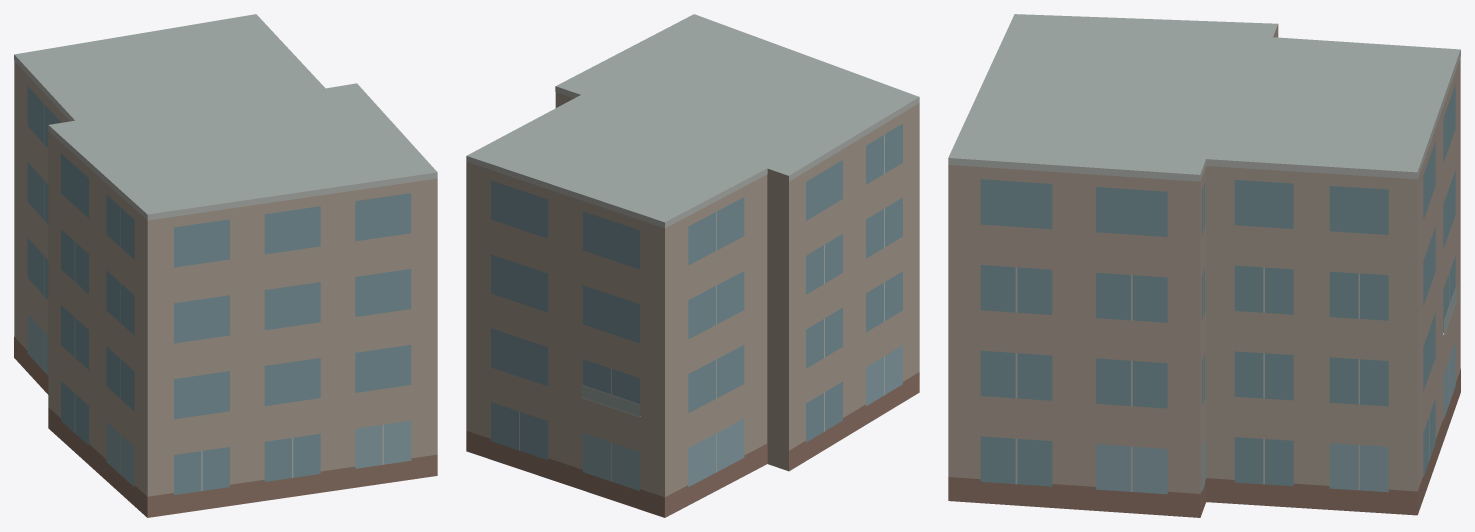
Rendered from survey-upis-32932903.glb.
3 renders of one model, left to right at view 1: azimuth 30°, elevation 25°; view 2: azimuth 150°, elevation 25°; view 3: azimuth 270°, elevation 25°, orthographic. The views are drawn at different scales.
Parts seen in each view (by area): view 1: survey-upis-32932903.tmp; view 2: survey-upis-32932903.tmp; view 3: survey-upis-32932903.tmp.
Part boxes in pixels (box(x1,y1,x2,y2)): survey-upis-32932903.tmp: box(14, 14, 437, 517); survey-upis-32932903.tmp: box(466, 14, 919, 517); survey-upis-32932903.tmp: box(948, 14, 1460, 517).
Bounding box in the file's own units: 12.28 × 12.2 × 16.54.
